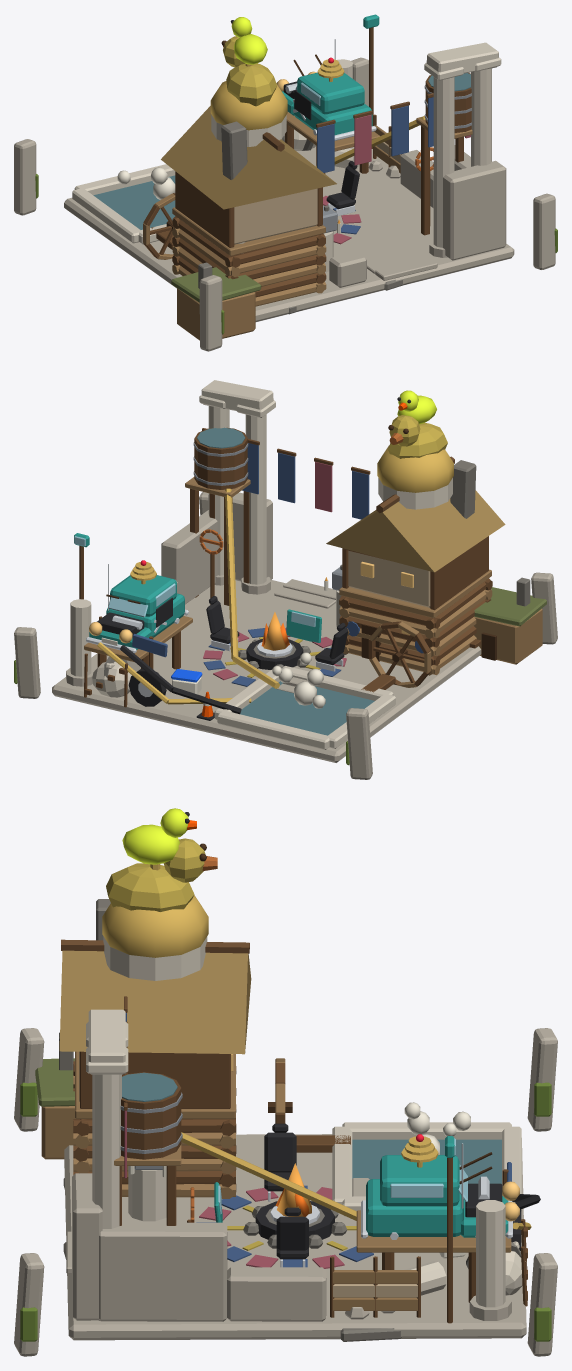
Rendered from hearth_l5.fbx.
The picture shows the model from 3 angles, top to bottom: view 1: azimuth 30°, elevation 25°; view 2: azimuth 150°, elevation 25°; view 3: azimuth 270°, elevation 25°; orthographic projection. The views are drawn at different scales.
Parts seen in each view (by area): view 1: Ruin, TimeMachine, Stilts, Steam; view 2: Ruin, TimeMachine, Stilts, Hoses, Steam, Fire; view 3: Ruin, TimeMachine, Stilts, Steam, Fire.
Part boxes in pixels (left/top/right/bottom): Ruin: left=14, top=14, right=557, bottom=351; TimeMachine: left=276, top=39, right=376, bottom=140; Stilts: left=285, top=112, right=379, bottom=173; Steam: left=117, top=167, right=175, bottom=199; Ruin: left=14, top=380, right=557, bottom=779; TimeMachine: left=86, top=560, right=188, bottom=653; Stilts: left=84, top=616, right=192, bottom=707; Hoses: left=97, top=642, right=251, bottom=714; Steam: left=272, top=652, right=325, bottom=708; Fire: left=261, top=612, right=289, bottom=650; Ruin: left=14, top=808, right=557, bottom=1356; TimeMachine: left=361, top=1134, right=519, bottom=1239; Stilts: left=356, top=1210, right=527, bottom=1306; Steam: left=404, top=1102, right=470, bottom=1154; Fire: left=275, top=1163, right=311, bottom=1216.
Size of the model in its own units: 4.59 by 4.39 by 3.34.
